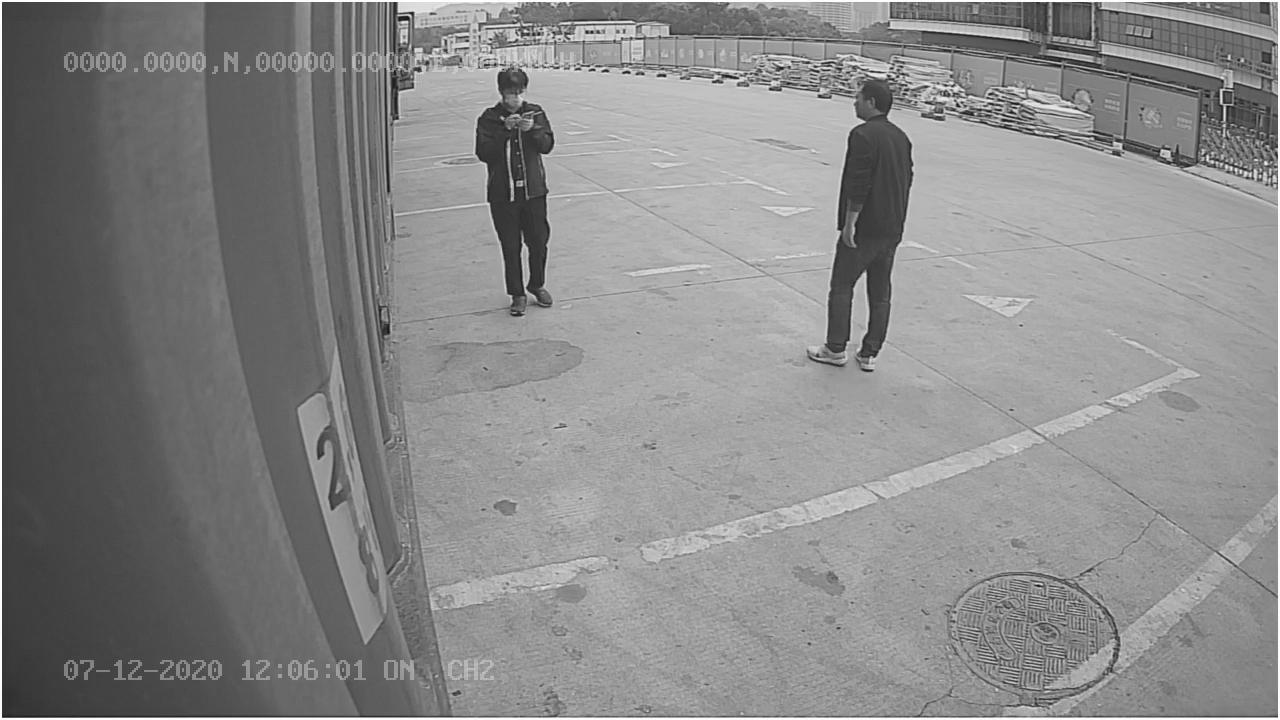person: (804, 74, 916, 374), (471, 63, 560, 318)
